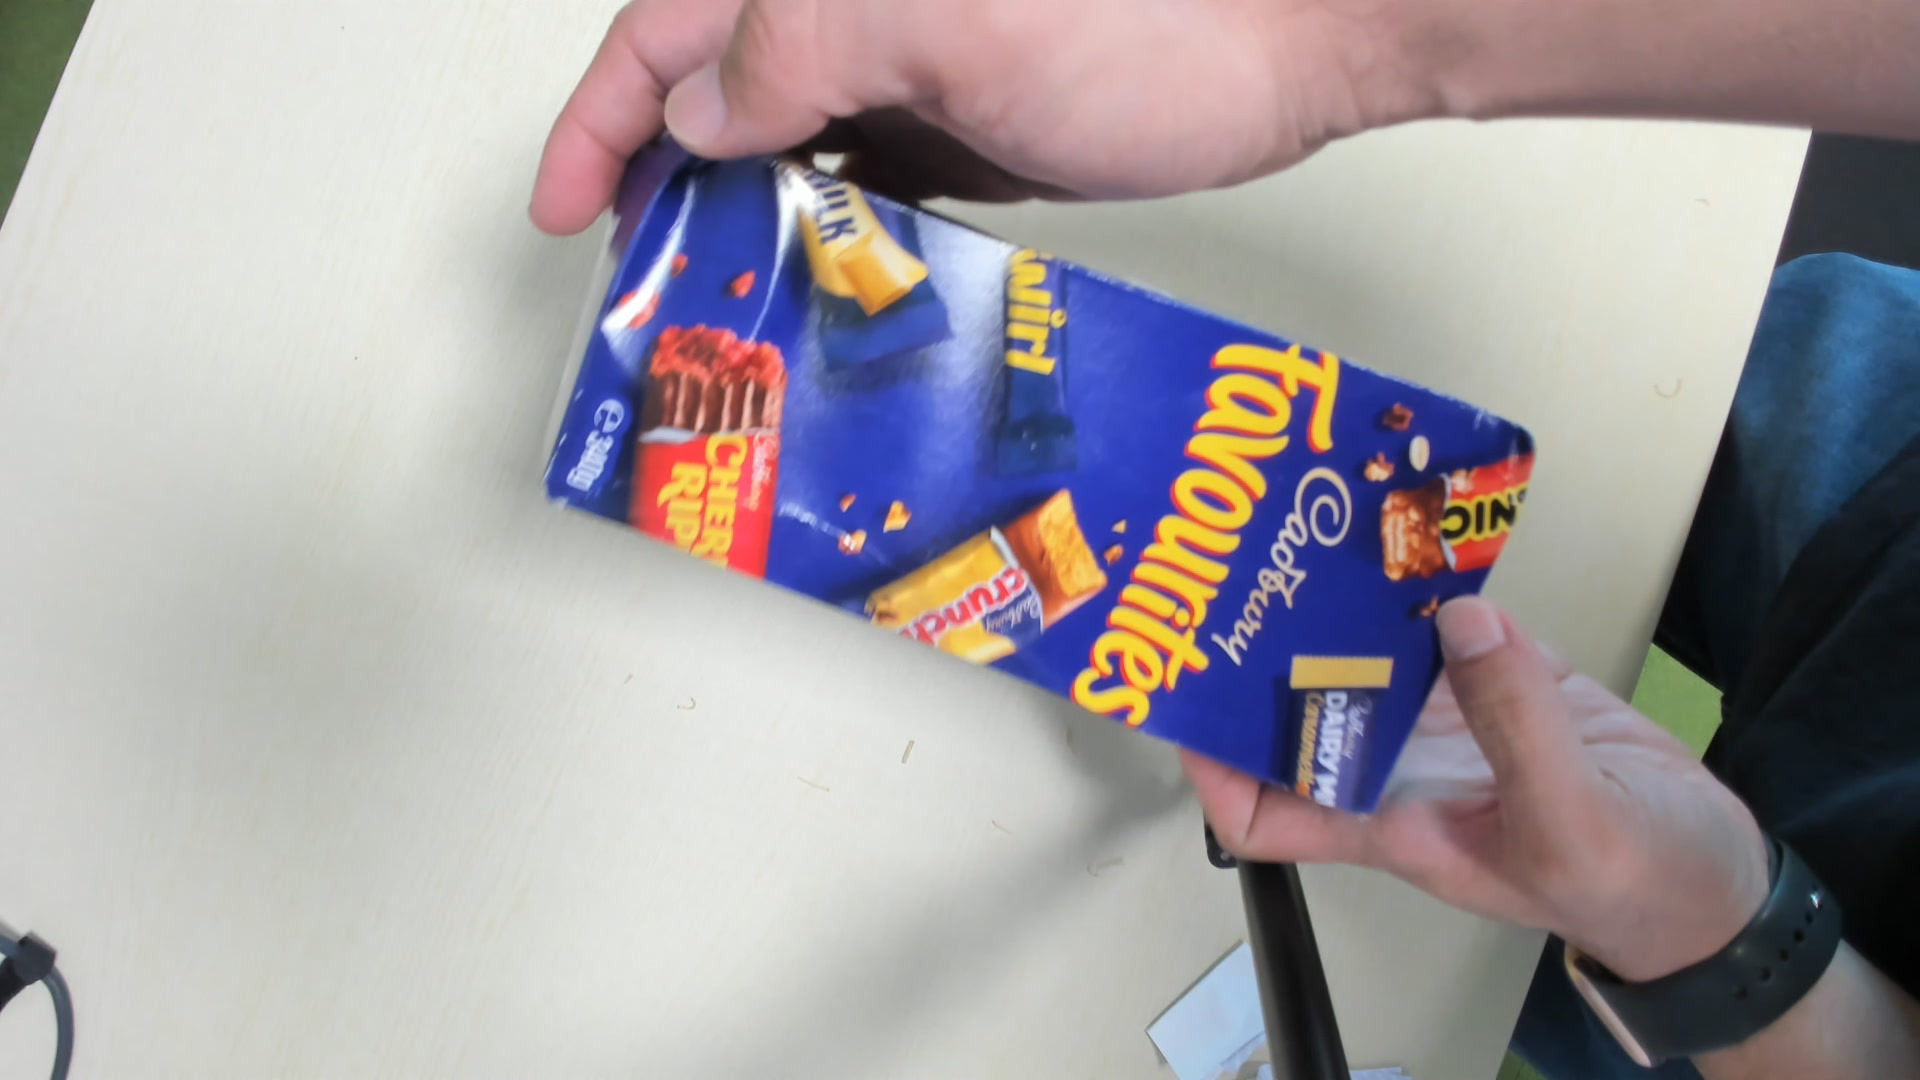SweetsChocolatesOthers_300-399g_NonHalal_Nonhealthy: (549, 156, 1538, 808)
